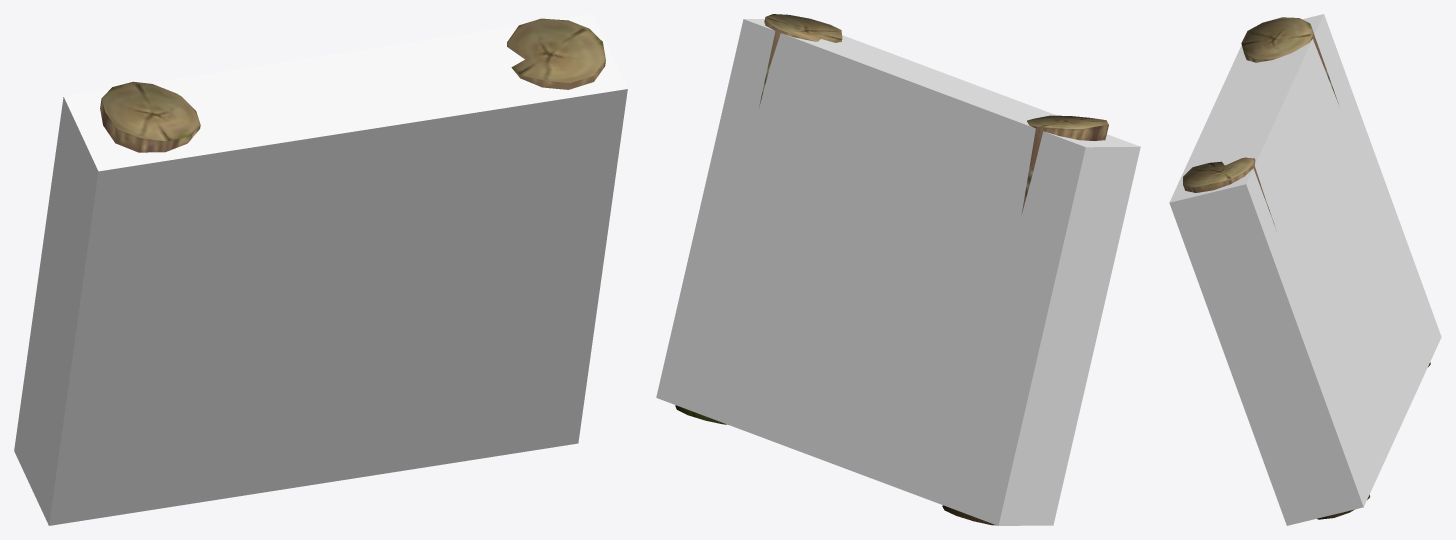
The model's file is Timber_B (14).fbx.
The picture shows the model from 3 angles, left to right: view 1: azimuth 30°, elevation 25°; view 2: azimuth 150°, elevation 25°; view 3: azimuth 270°, elevation 25°; orthographic projection. The views are drawn at different scales.
Parts seen in each view (by area): view 1: Cube, Timber_B__14_; view 2: Cube, Timber_B__14_; view 3: Cube, Timber_B__14_.
Part boxes in pixels (left/top/right/bottom): Cube: left=14, top=14, right=627, bottom=525; Timber_B__14_: left=100, top=18, right=605, bottom=152; Cube: left=656, top=19, right=1140, bottom=525; Timber_B__14_: left=675, top=14, right=1108, bottom=525; Cube: left=1169, top=14, right=1441, bottom=525; Timber_B__14_: left=1183, top=17, right=1430, bottom=519.
Bounding box in the file's own units: 290 × 244 × 175.
